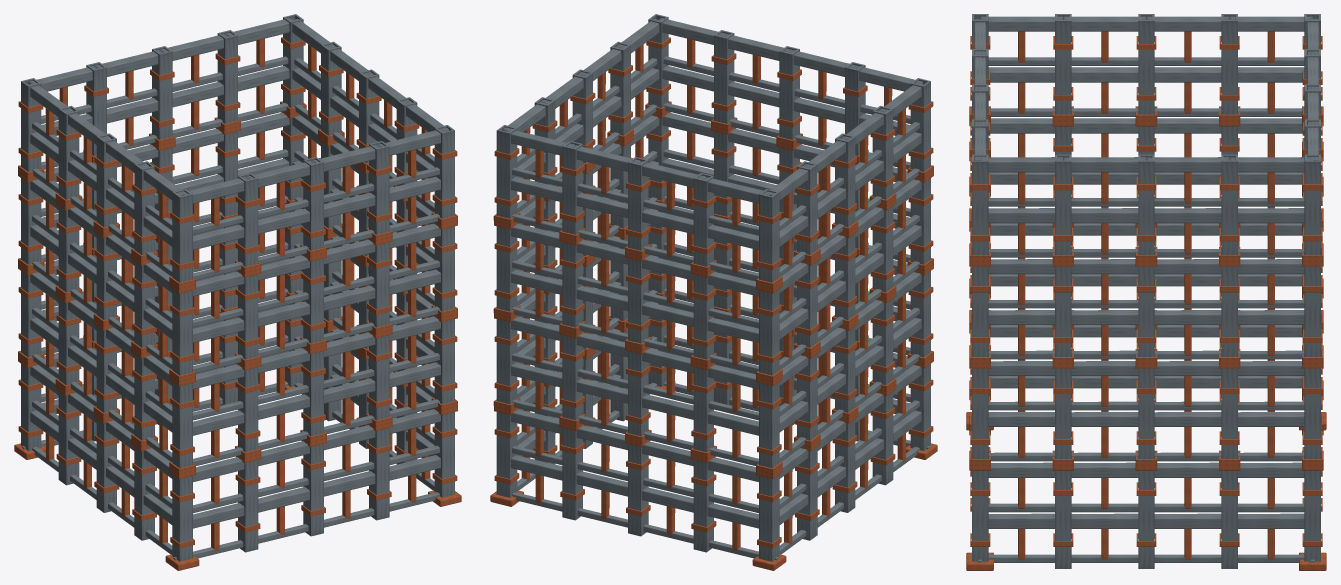
3 renders of one model, left to right at view 1: azimuth 30°, elevation 25°; view 2: azimuth 150°, elevation 25°; view 3: azimuth 270°, elevation 25°, orthographic. The views are drawn at different scales.
Parts seen in each view (by area): view 1: Tier 3 side 0 post 0, Tier 0 side 0 post 0, Tier 1 side 0 post 0, Tier 2 side 0 post 0, Tier 3 side 2 post 2, Tier 3 side 0 post 3, Tier 3 side 0 post 1, Tier 0 side 0 post 1, Tier 0 side 0 post 3, Tier 3 side 0 post 2, Tier 3 side 2 post 1, Tier 0 side 0 post 2 (+89 smaller); view 2: Tier 3 side 3 post 0, Tier 0 side 3 post 0, Tier 3 side 2 post 0, Tier 2 side 3 post 0, Tier 1 side 3 post 0, Tier 3 side 2 post 1, Tier 3 side 2 post 3, Tier 3 side 0 post 2, Tier 0 side 2 post 3, Tier 0 side 2 post 1, Tier 3 side 2 post 2, Tier 0 side 2 post 2 (+89 smaller); view 3: Tier 3 side 1 post 1, Tier 3 side 1 post 2, Tier 3 side 1 post 3, Tier 3 side 1 post 0, Tier 3 side 2 post 0, Tier 3 side 3 post 2, Tier 3 side 3 post 1, Tier 3 side 3 post 3, Tier 0 side 1 post 1, Tier 0 side 1 post 2, Tier 0 side 1 post 3, Tier 2 side 1 post 0 (+115 smaller).
Part boxes in pixels (x1,y1,x2,y2): Tier 3 side 0 post 0: [172, 189, 192, 282]; Tier 0 side 0 post 0: [172, 474, 192, 561]; Tier 1 side 0 post 0: [172, 382, 192, 468]; Tier 2 side 0 post 0: [172, 289, 192, 375]; Tier 3 side 2 post 2: [152, 46, 172, 139]; Tier 3 side 0 post 3: [369, 141, 389, 234]; Tier 3 side 0 post 1: [238, 173, 258, 266]; Tier 0 side 0 post 1: [238, 460, 258, 552]; Tier 0 side 0 post 3: [369, 428, 389, 520]; Tier 3 side 0 post 2: [303, 157, 323, 250]; Tier 3 side 2 post 1: [217, 30, 237, 123]; Tier 0 side 0 post 2: [303, 444, 323, 536]; Tier 3 side 3 post 0: [759, 189, 779, 282]; Tier 0 side 3 post 0: [759, 474, 779, 561]; Tier 3 side 2 post 0: [496, 125, 517, 218]; Tier 2 side 3 post 0: [759, 289, 779, 375]; Tier 1 side 3 post 0: [759, 382, 779, 468]; Tier 3 side 2 post 1: [562, 141, 582, 234]; Tier 3 side 2 post 3: [693, 173, 713, 266]; Tier 3 side 0 post 2: [779, 46, 799, 139]; Tier 0 side 2 post 3: [693, 460, 713, 552]; Tier 0 side 2 post 1: [562, 428, 582, 520]; Tier 3 side 2 post 2: [628, 157, 648, 250]; Tier 0 side 2 post 2: [628, 444, 648, 536]; Tier 3 side 1 post 1: [1055, 154, 1071, 255]; Tier 3 side 1 post 2: [1138, 154, 1154, 255]; Tier 3 side 1 post 3: [1221, 154, 1237, 255]; Tier 3 side 1 post 0: [972, 154, 988, 255]; Tier 3 side 2 post 0: [1304, 154, 1320, 255]; Tier 3 side 3 post 2: [1138, 14, 1154, 114]; Tier 3 side 3 post 1: [1221, 14, 1237, 114]; Tier 3 side 3 post 3: [1055, 14, 1071, 114]; Tier 0 side 1 post 1: [1055, 470, 1071, 568]; Tier 0 side 1 post 2: [1138, 470, 1154, 568]; Tier 0 side 1 post 3: [1221, 470, 1237, 568]; Tier 2 side 1 post 0: [972, 266, 988, 356].
Bounding box in the file's own units: 1.95 × 2.43 × 1.95.
2 materials, 2 textured.
